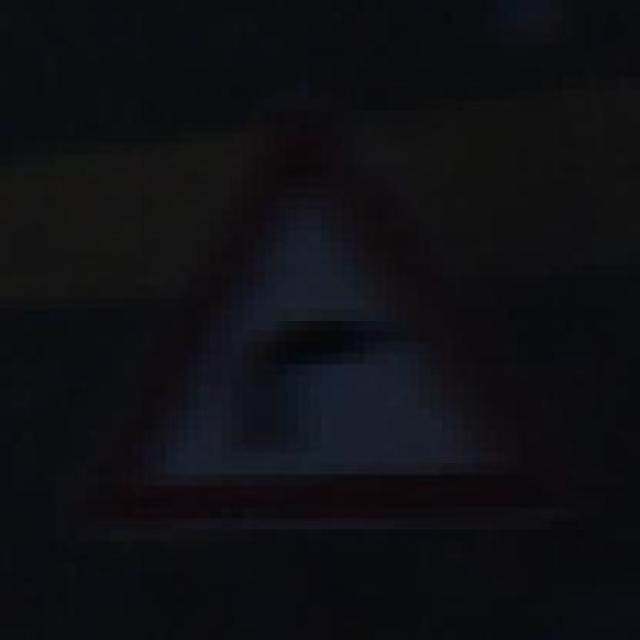Dangerous Rright Curve Ahead: (99, 99, 541, 552)
